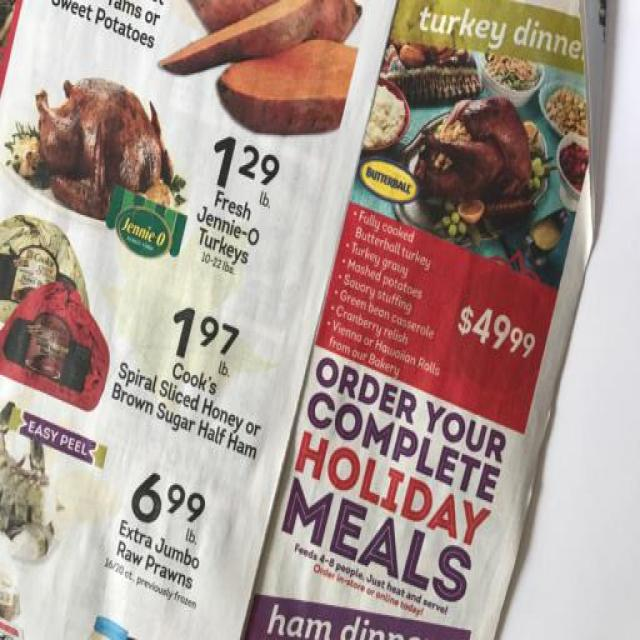paper: (1, 1, 608, 639)
